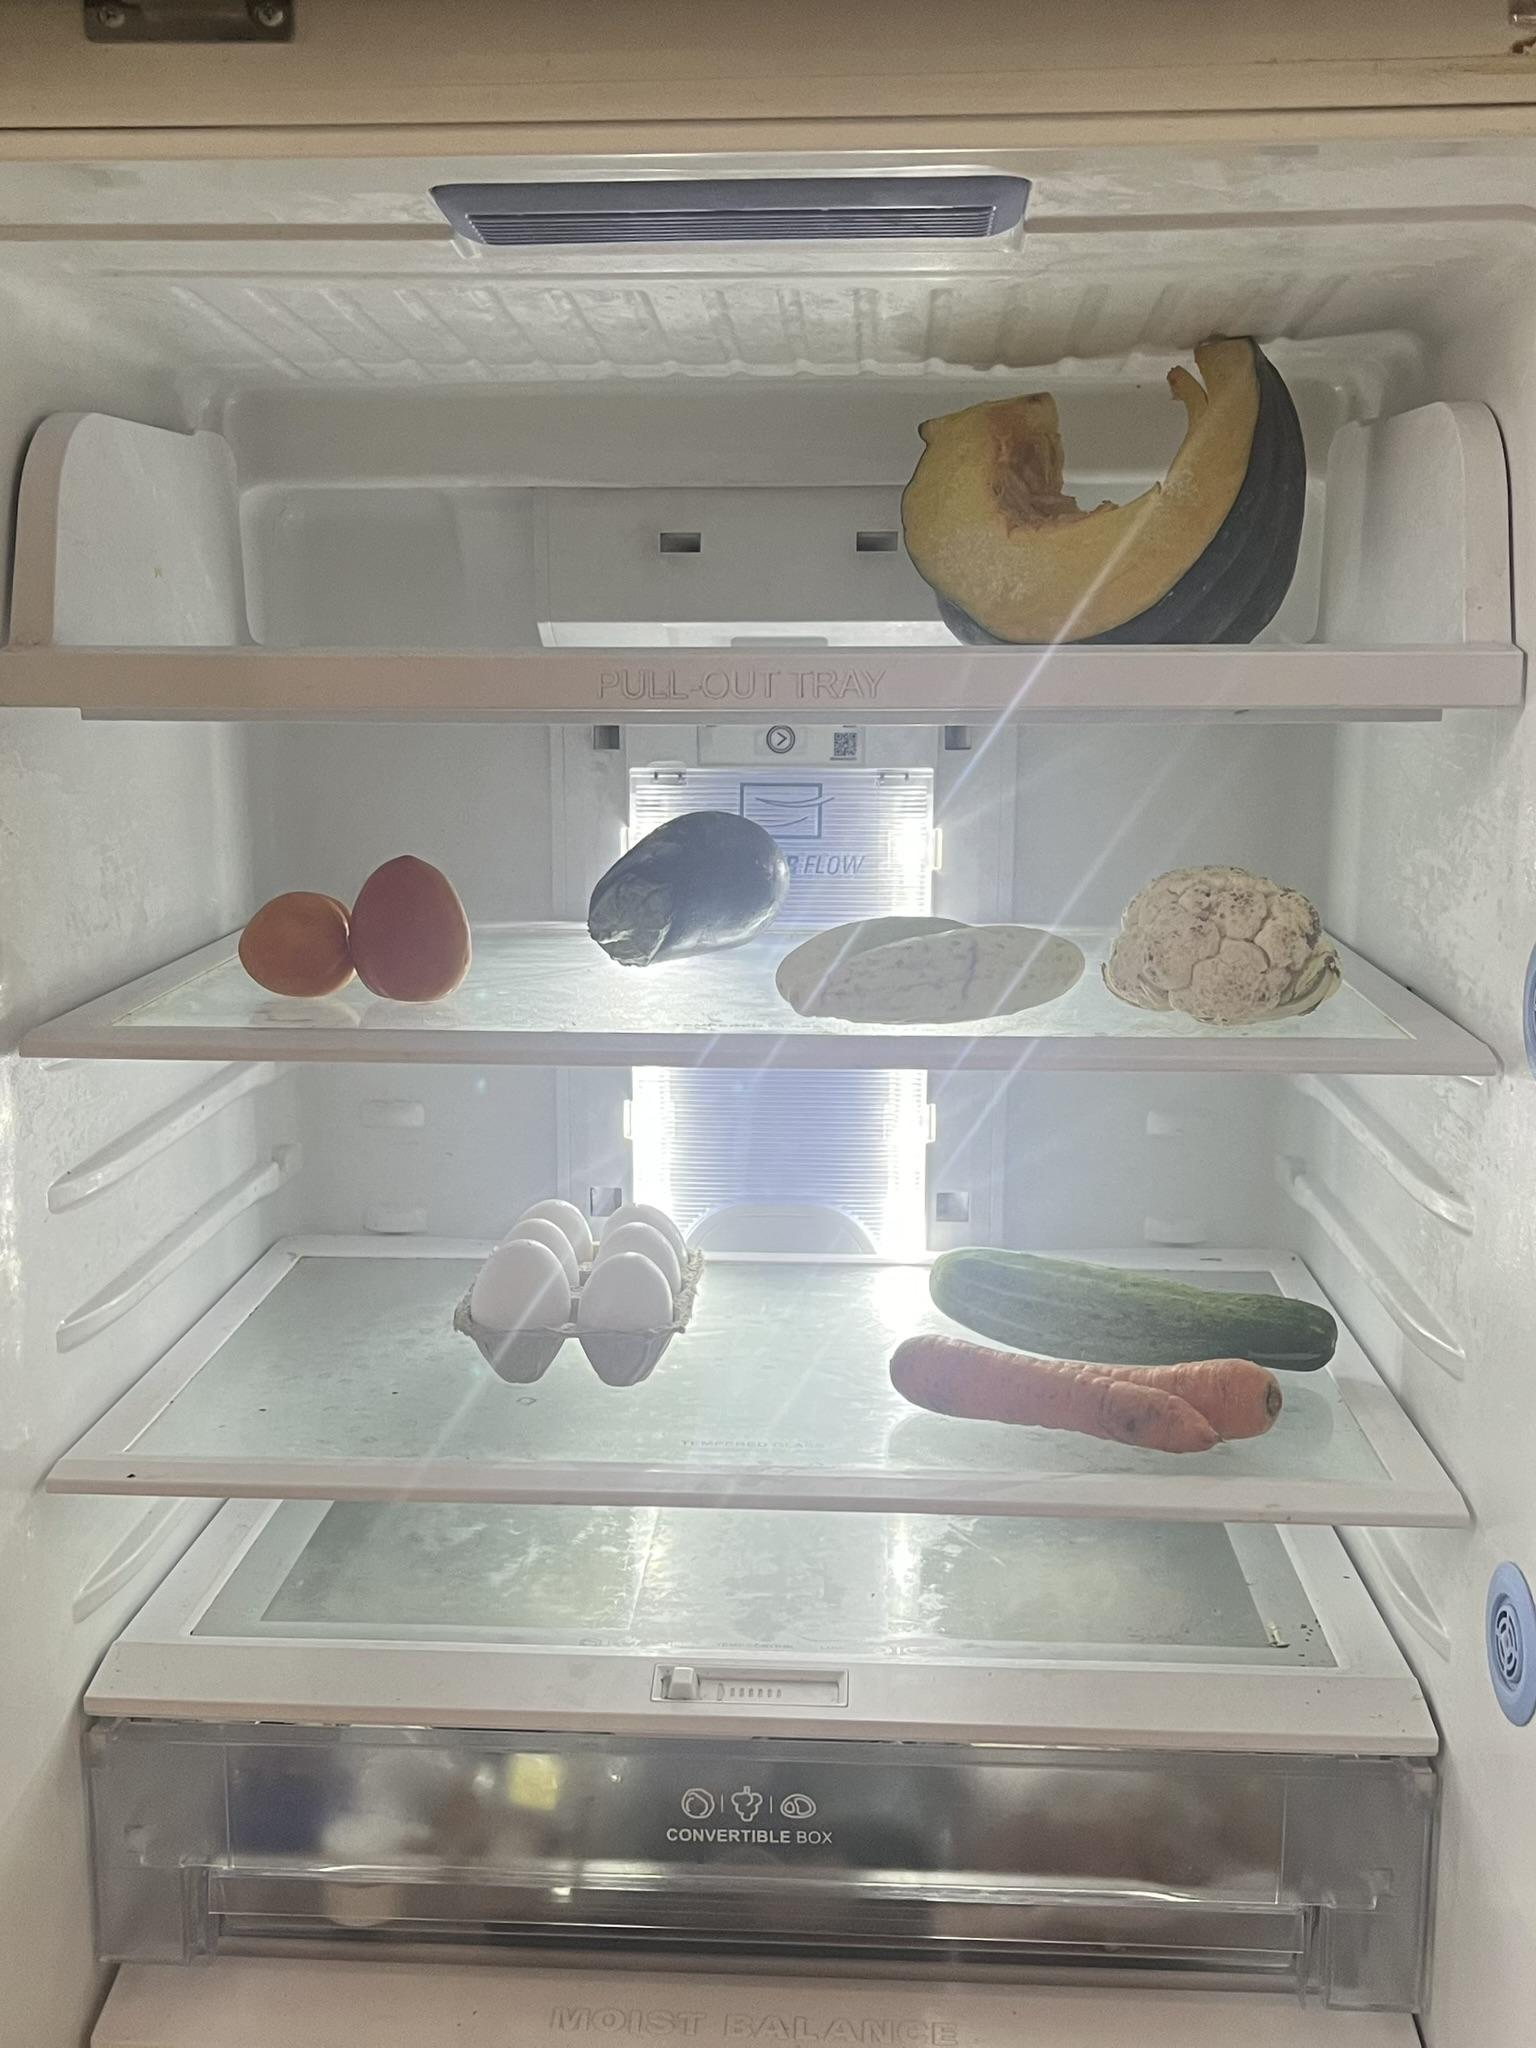bringal: (587, 806, 794, 959)
carrots: (887, 1343, 1300, 1459)
cauliflower: (1104, 866, 1354, 1021)
cucumber: (926, 1237, 1350, 1371), (763, 910, 1100, 1027)
egg: (466, 1193, 691, 1393)
pumpkin: (897, 334, 1320, 647)
tomato: (234, 834, 357, 993), (357, 847, 470, 1009)
